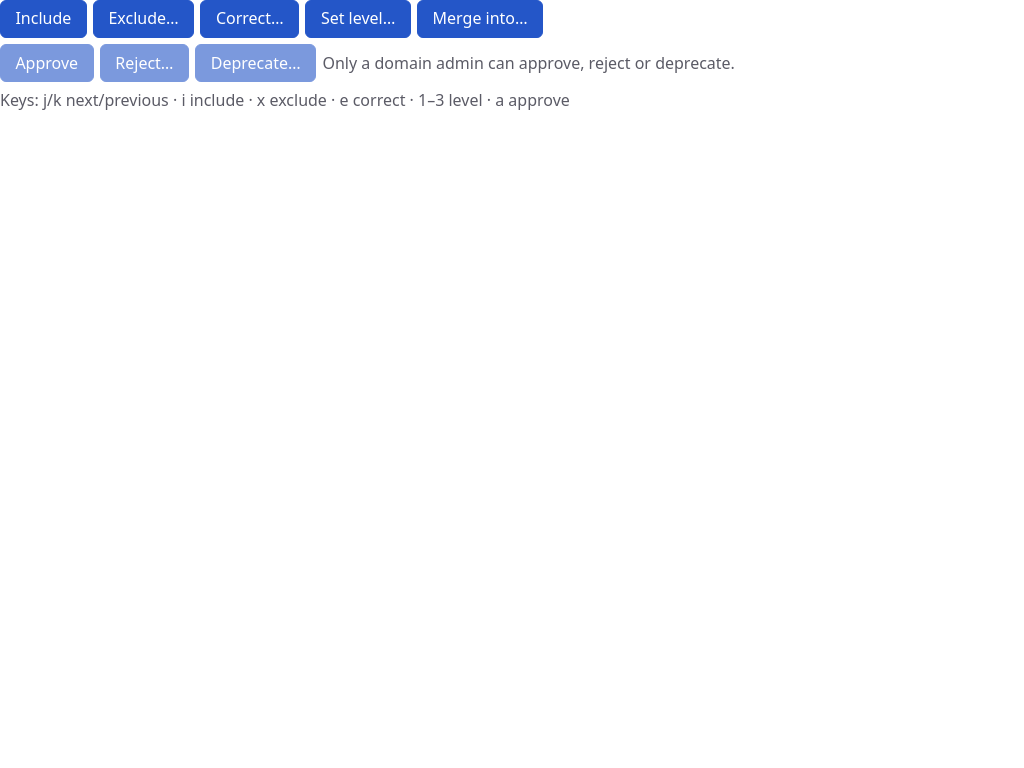
Test: Actions › dialog_can_be_cancelled_with_escape
Click the button "Exclude…".
click(144, 19)  # box top-left (93, 0), bottom-right (194, 38)
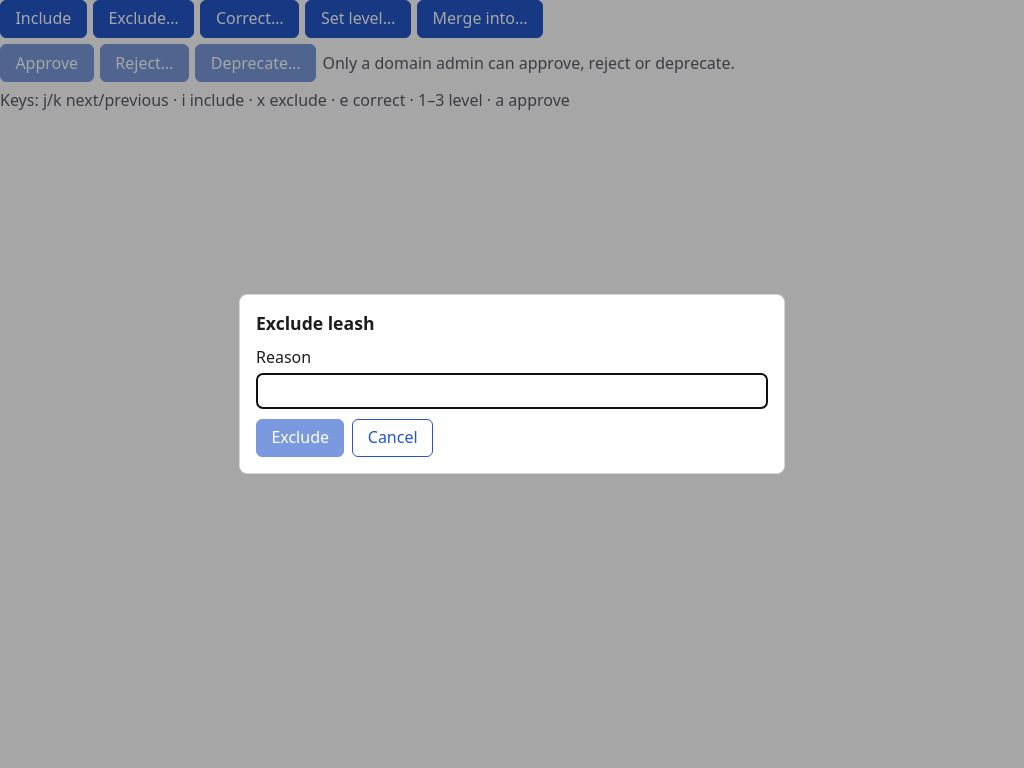
Press Escape
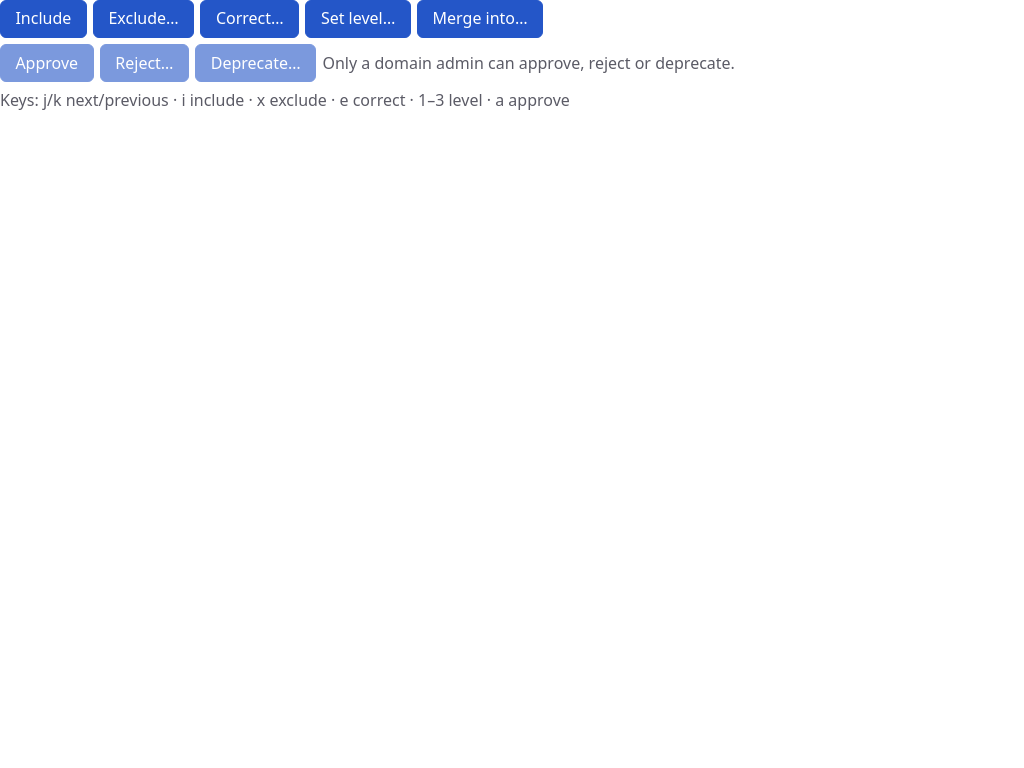
Check: the dialog is gone
